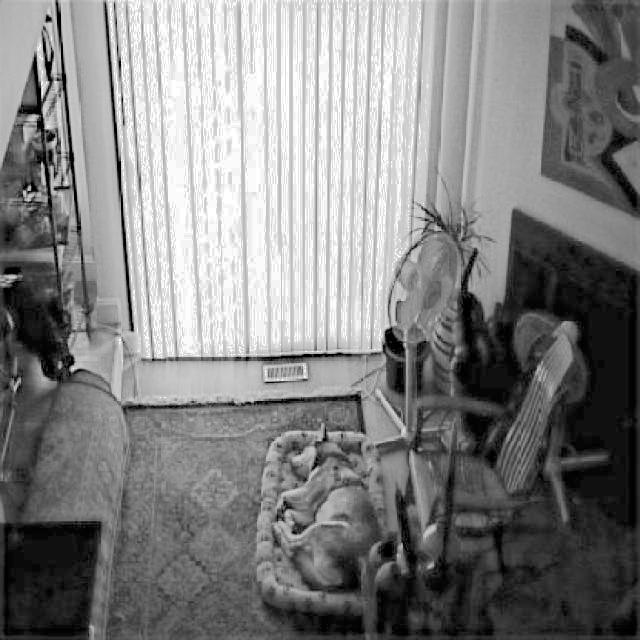Dog: (272, 418, 385, 591)
